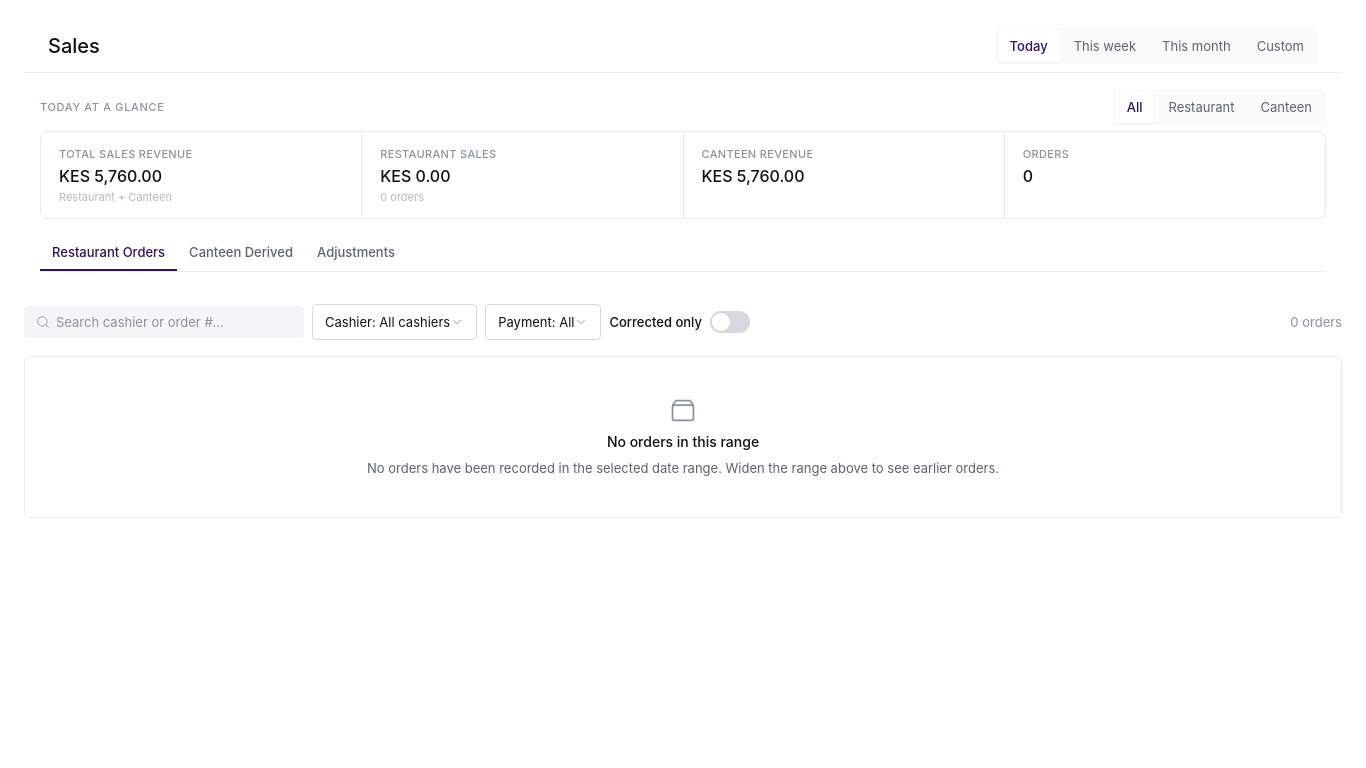
Test: Restaurant Orders tab › filtered-empty state with a Reset action when a filter matches nothing
This screenshot has width=1366, height=768.
Note: turn on "Corrected only" (kit kind:"toggle") → a filter is active → filtered-empty
Click the switch named "Corrected only". click: (730, 322)
box: [710,311,750,333]
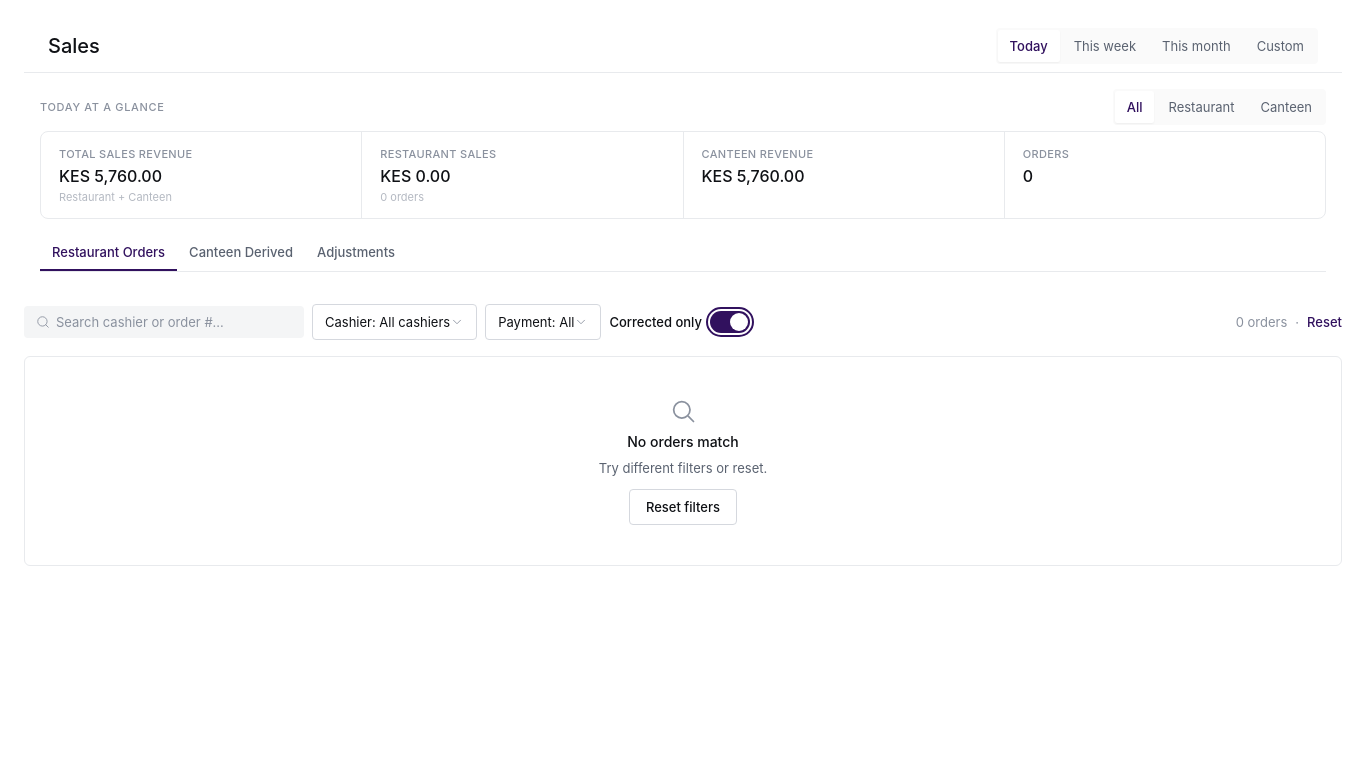
Expected: the text "No orders match" is shown, [627,433,739,451]
Expected: the button "Reset filters" is shown, [629,489,737,525]
